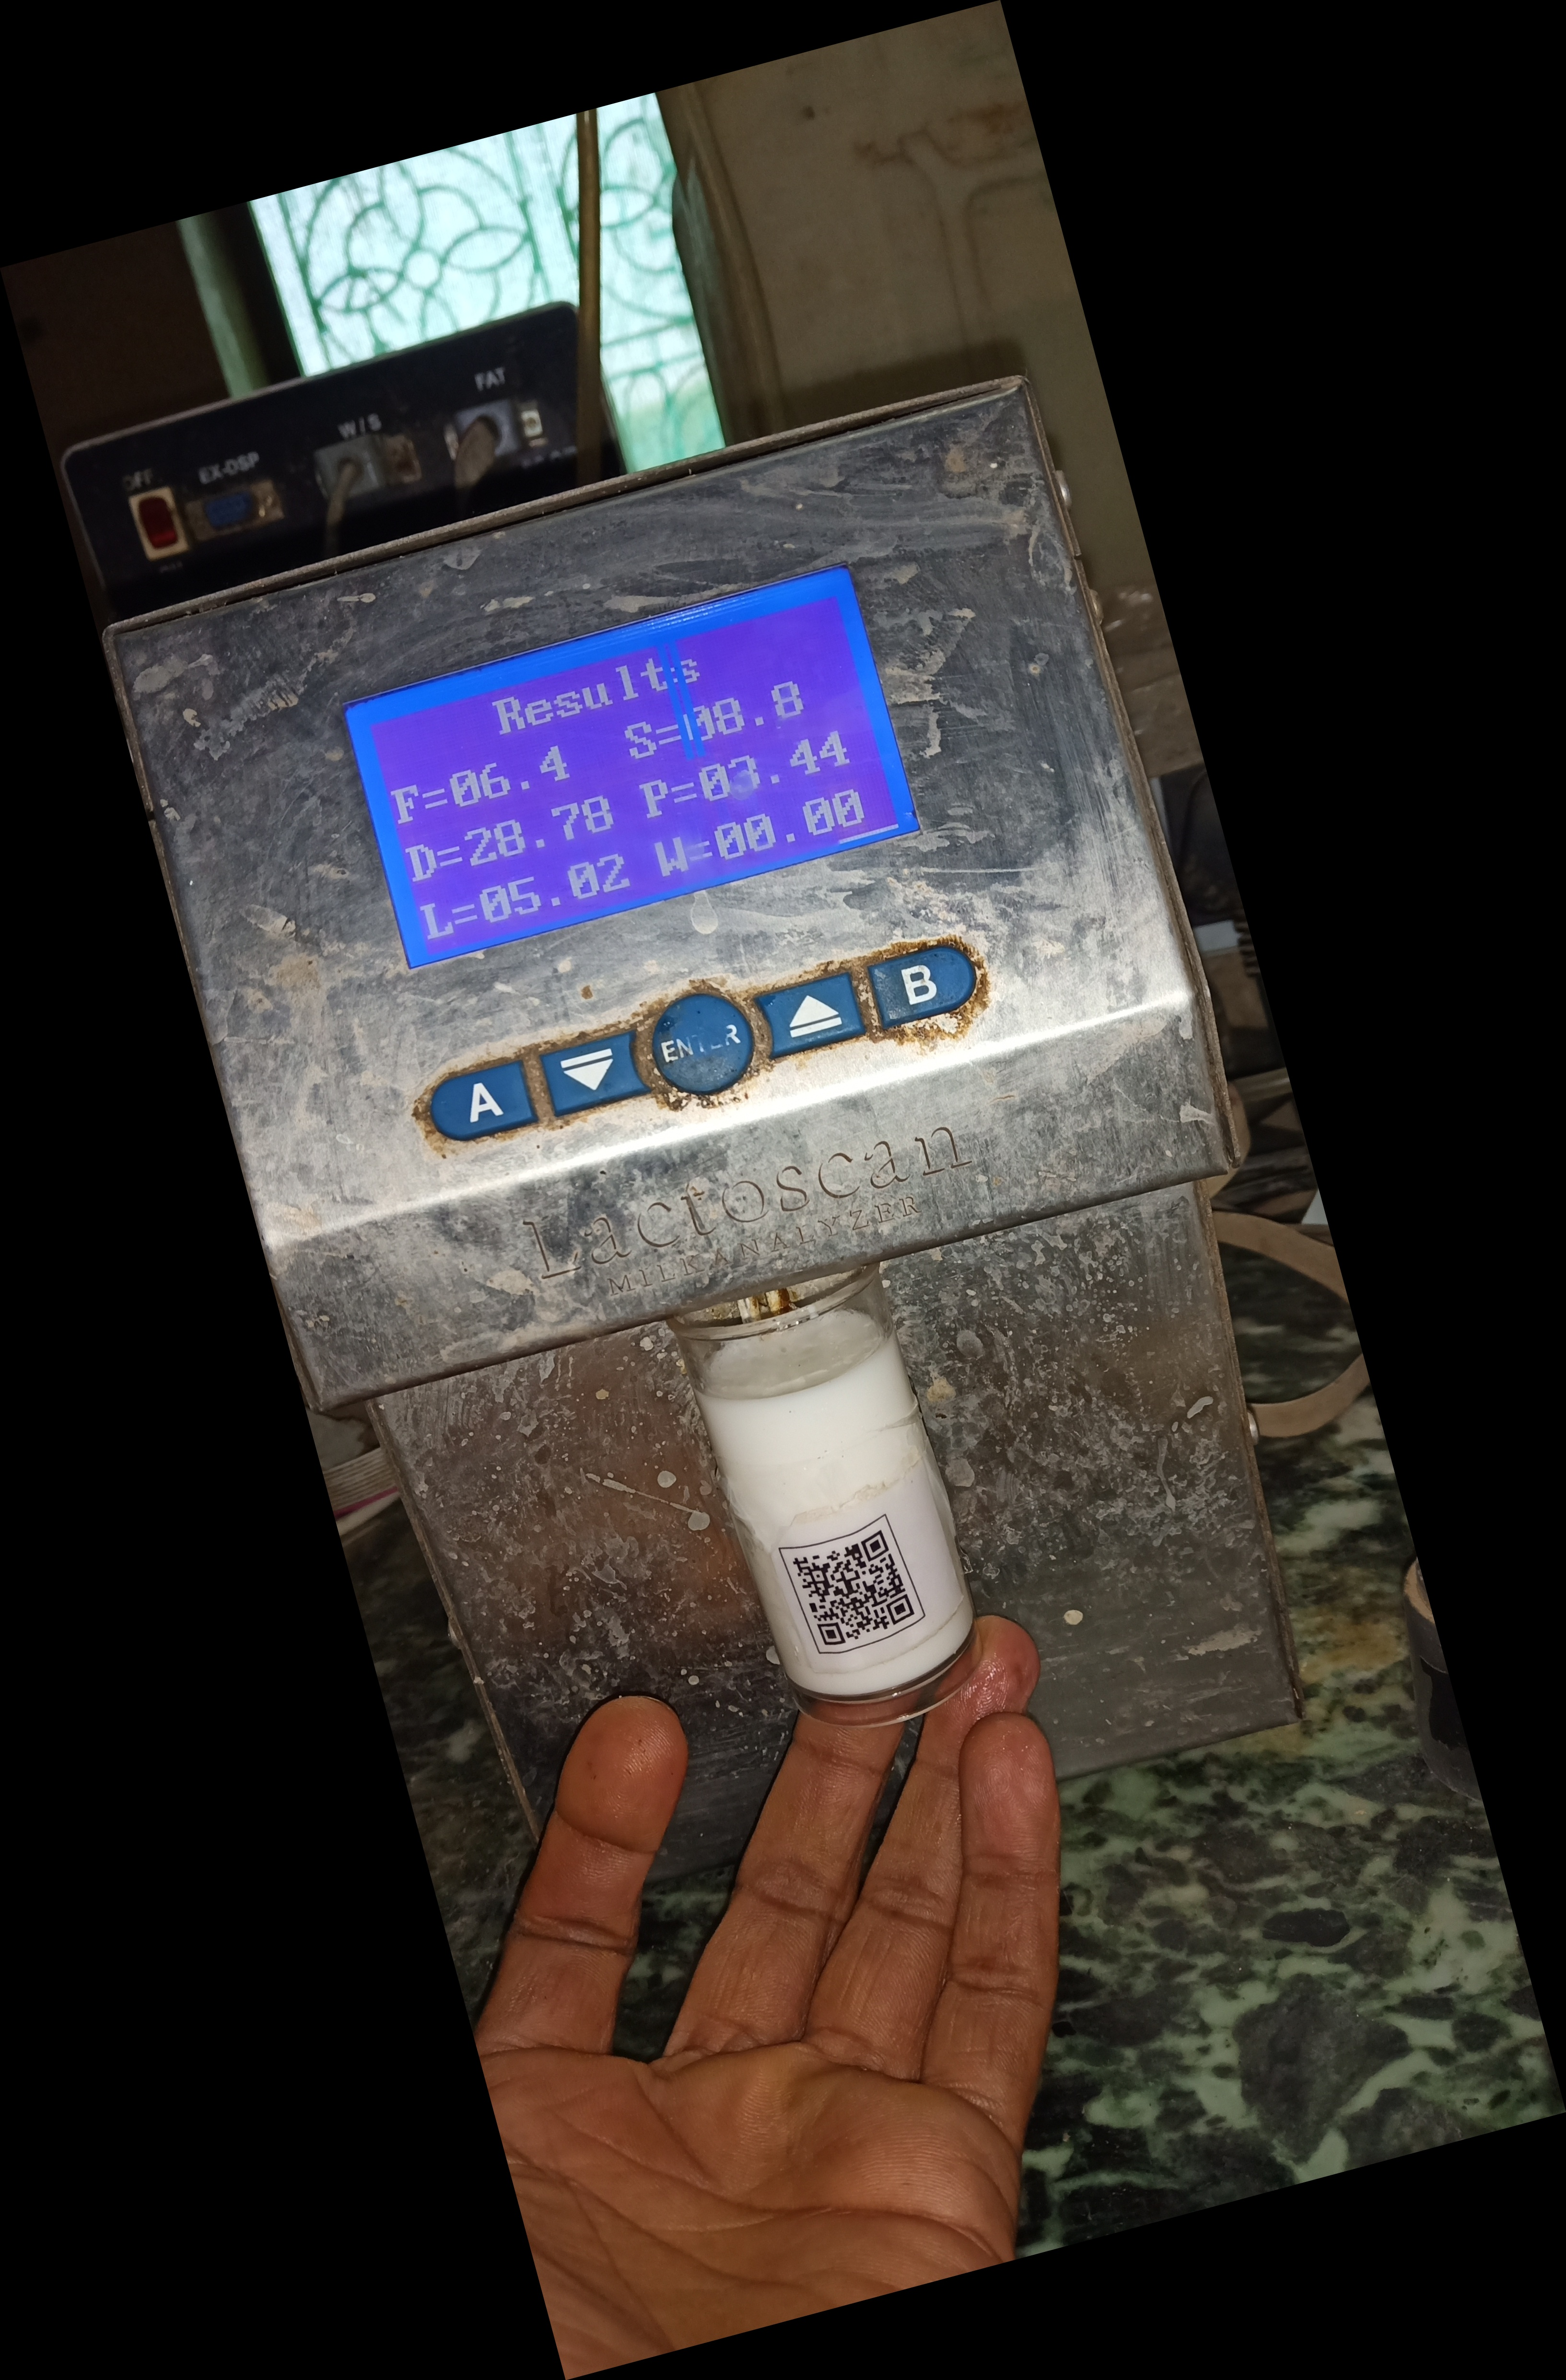lcd: (337, 552, 928, 998)
qr: (778, 1508, 932, 1662)
